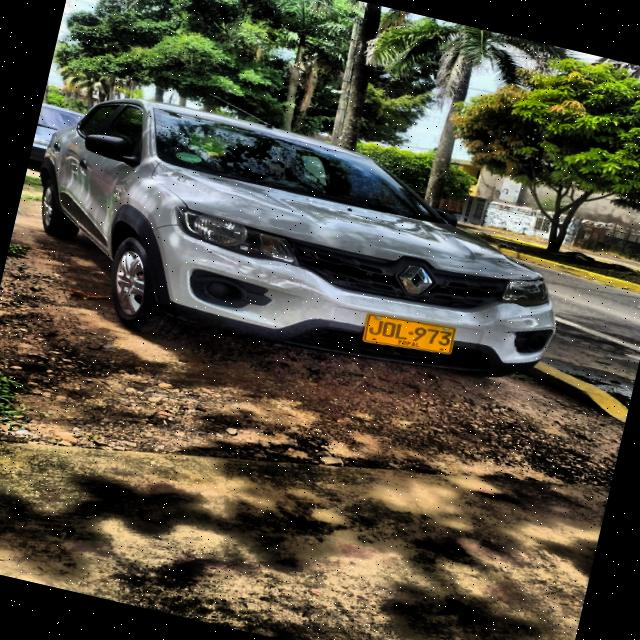plate: (363, 314, 455, 354)
